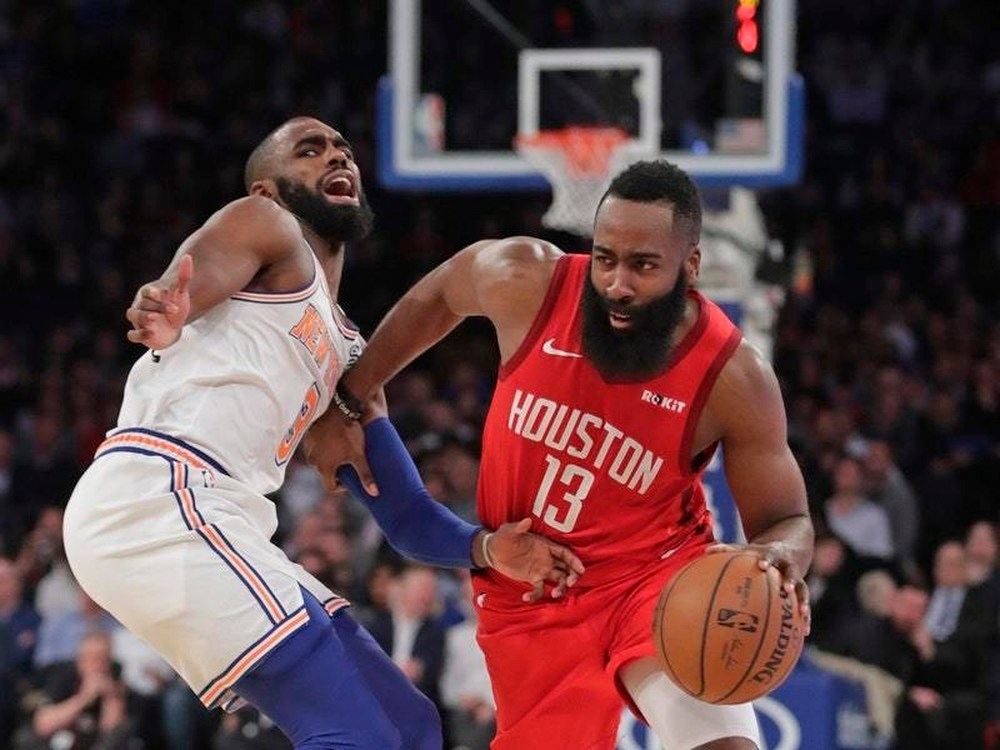Basketball: (651, 551, 814, 708)
